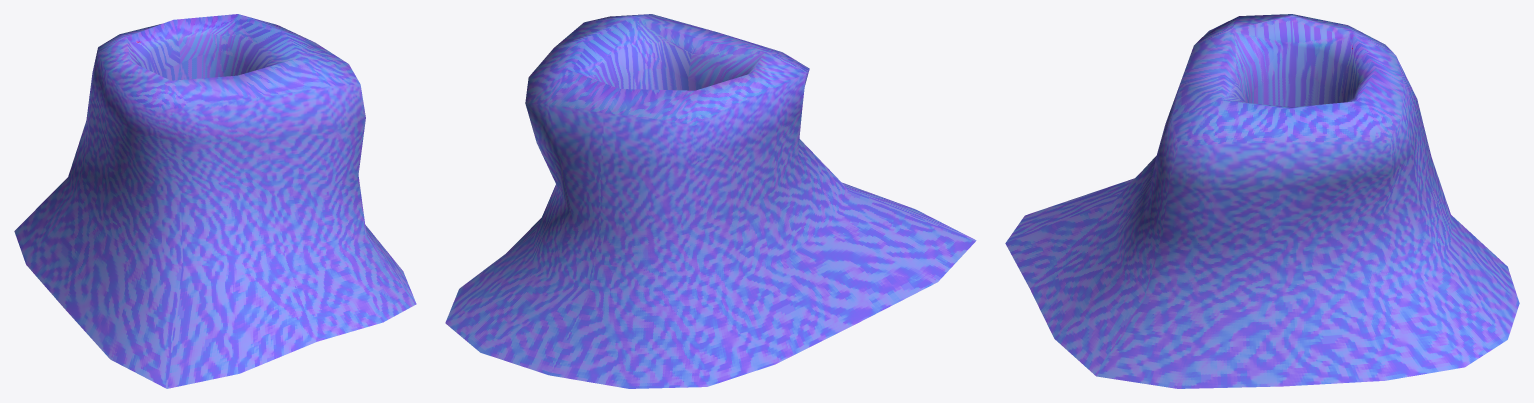
File: HORMIGUERO.fbx
The picture shows the model from 3 angles, left to right: view 1: azimuth 30°, elevation 25°; view 2: azimuth 150°, elevation 25°; view 3: azimuth 270°, elevation 25°; orthographic projection. The views are drawn at different scales.
Parts seen in each view (by area): view 1: Cube; view 2: Cube; view 3: Cube.
Boxes of the visible parts, x1,y1,x2,y2 form: Cube: [14, 14, 416, 388]; Cube: [445, 14, 976, 388]; Cube: [1005, 14, 1519, 388].
Bounding box in the file's own units: 306 × 207 × 383.
